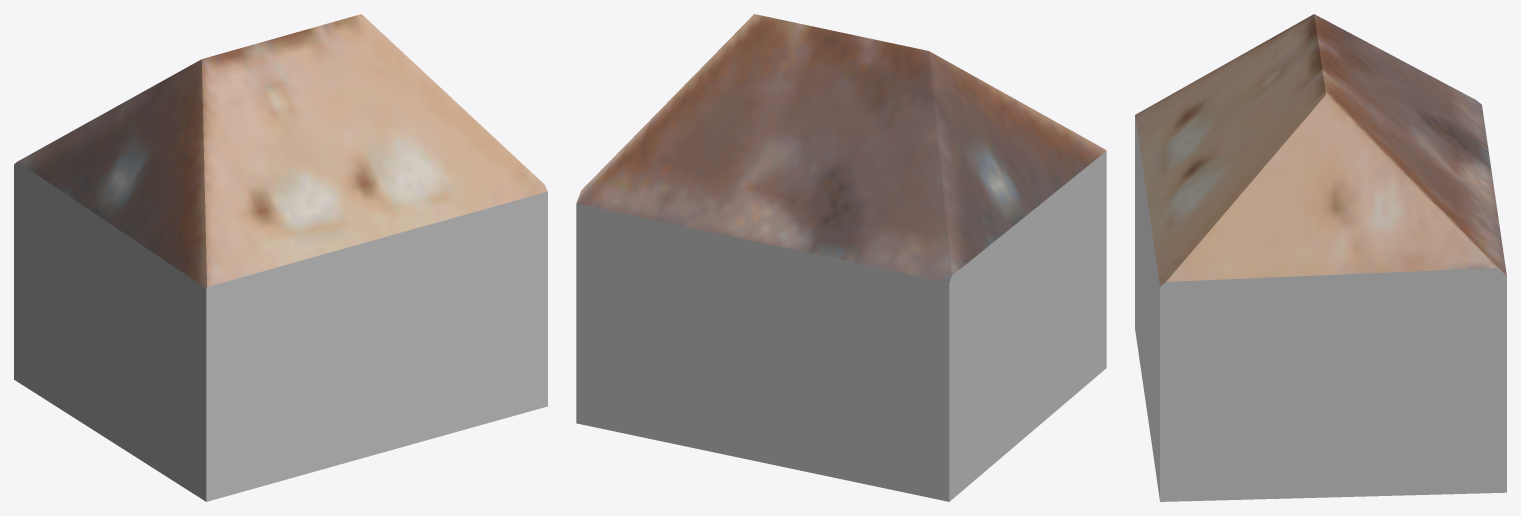
File: DEBW_0010007TxdS.gltf
3 views of the same model, side by side, from view 1: azimuth 30°, elevation 25°; view 2: azimuth 150°, elevation 25°; view 3: azimuth 270°, elevation 25° (orthographic).
Parts seen in each view (by area): view 1: Z_UP; view 2: Z_UP; view 3: Z_UP.
Boxes of the visible parts, <box> form: Z_UP: <box>14,14,547,501</box>; Z_UP: <box>576,14,1106,501</box>; Z_UP: <box>1135,14,1506,501</box>.
Bounding box in the file's own units: 12.22 × 11.17 × 10.55.
2 materials, 1 textured.
